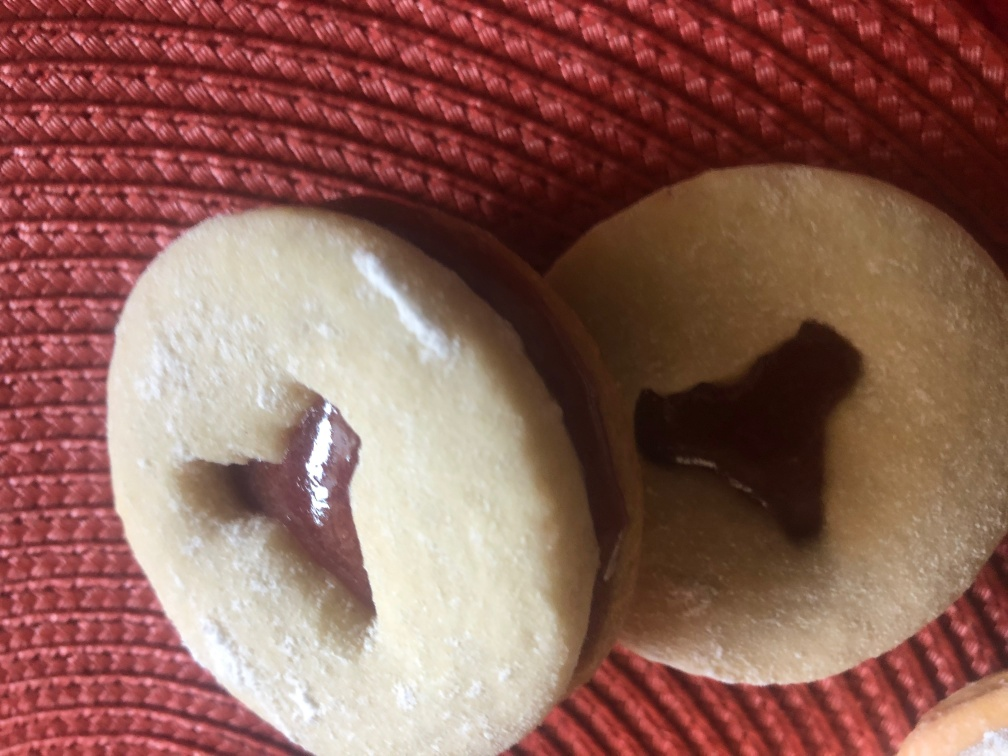christmas shortbread with jam: (105, 194, 644, 756), (547, 165, 1005, 686)
